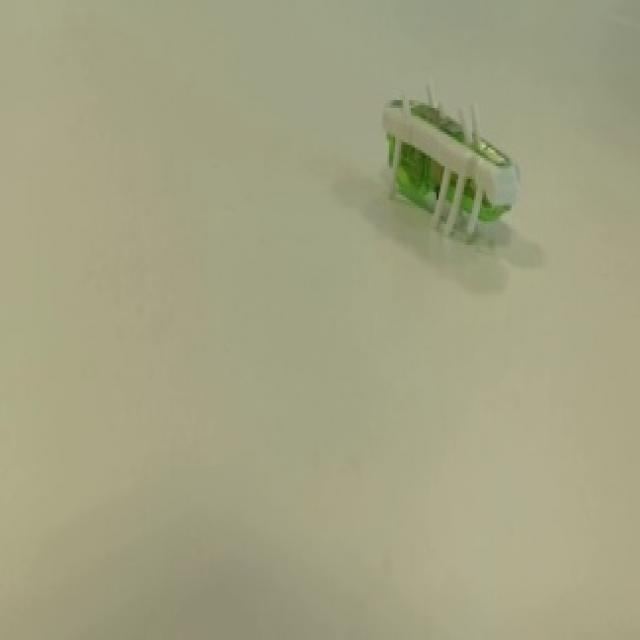4_NanoBug_Blanco: (350, 53, 572, 284)
